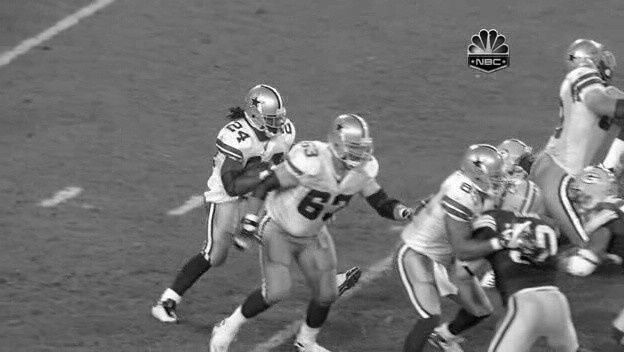person: (251, 85, 287, 129), (250, 85, 286, 129), (252, 85, 288, 129), (251, 84, 287, 128), (251, 86, 287, 130)
target_negative: (178, 164, 299, 278), (12, 312, 256, 345), (389, 99, 460, 202), (74, 346, 526, 347), (16, 349, 418, 350), (534, 313, 571, 318)
